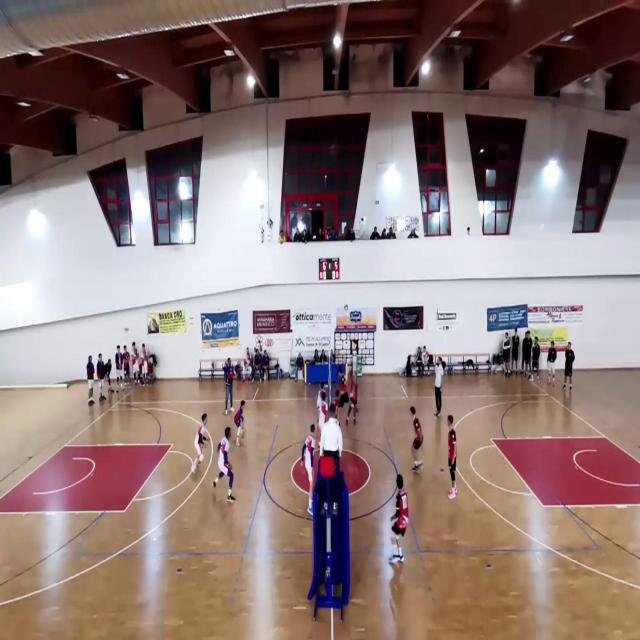volleyball: (343, 304, 349, 310)
